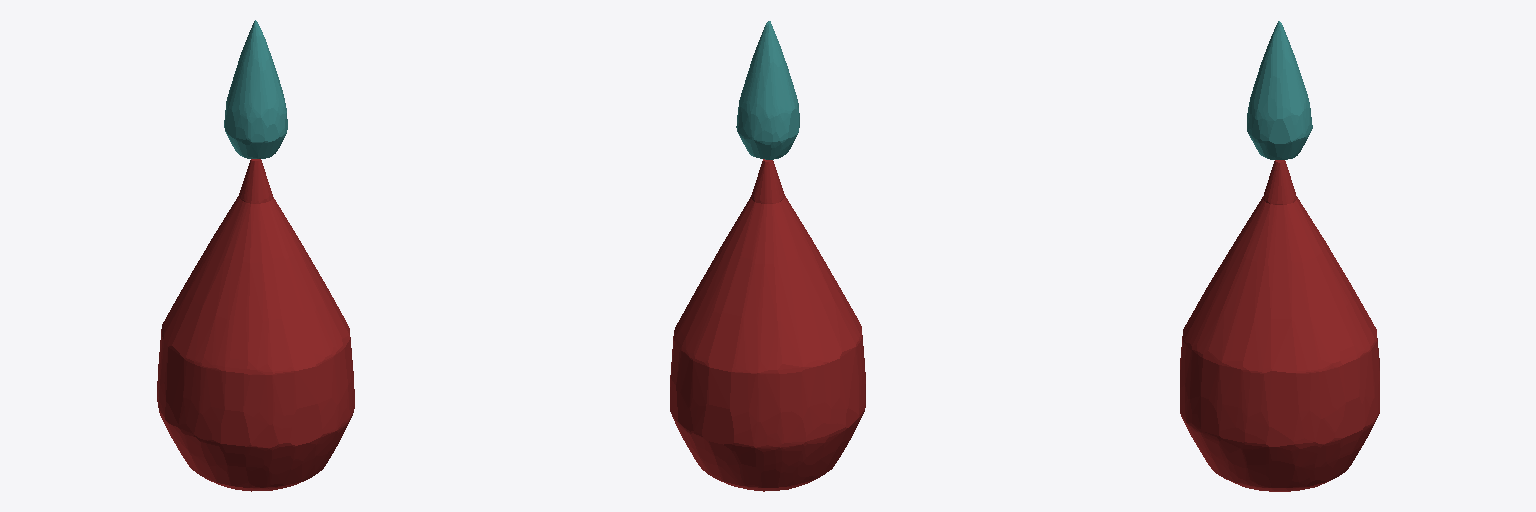
URDF robot description (root):
<robot name="root">
  <link name="bottle_body">
    <inertial>
      <origin xyz="0 0 0" rpy="0 0 0"/>
    </inertial>
    <mass value="1.00E-02"/>
    <visual>
      <origin xyz="0 0 0" rpy="0 0 0"/>
      <geometry>
        <mesh filename="core-bottle-cf6eff1143f9826ab5c14191b5dd293b-coacd_convex_piece_2.obj" scale="1.0000E-01 1.0000E-01 1.0000E-01"/>
      </geometry>
      <material name="">
        <color rgba="6.00E-01 2.00E-01 2.00E-01 1"/>
      </material>
    </visual>
    <collision>
      <origin xyz="0 0 0" rpy="0 0 0"/>
      <geometry>
        <mesh filename="core-bottle-cf6eff1143f9826ab5c14191b5dd293b-coacd_convex_piece_2.obj" scale="1.0000E-01 1.0000E-01 1.0000E-01"/>
      </geometry>
    </collision>
    <visual>
      <origin xyz="0 0 0" rpy="0 0 0"/>
      <geometry>
        <mesh filename="core-bottle-cf6eff1143f9826ab5c14191b5dd293b-coacd_convex_piece_0.obj" scale="1.0000E-01 1.0000E-01 1.0000E-01"/>
      </geometry>
      <material name="">
        <color rgba="6.00E-01 2.00E-01 2.00E-01 1"/>
      </material>
    </visual>
    <collision>
      <origin xyz="0 0 0" rpy="0 0 0"/>
      <geometry>
        <mesh filename="core-bottle-cf6eff1143f9826ab5c14191b5dd293b-coacd_convex_piece_0.obj" scale="1.0000E-01 1.0000E-01 1.0000E-01"/>
      </geometry>
    </collision>
  </link>
  <link name="bottle_cap">
    <origin xyz="0 0 0.002" rpy="0 0 0"/>
    <mass value="1.00E-02"/>
    <visual>
      <origin xyz="0 0 0.002" rpy="0 0 0"/>
      <geometry>
        <mesh filename="core-bottle-cf6eff1143f9826ab5c14191b5dd293b-coacd_convex_piece_1.obj" scale="1.0000E-01 1.0000E-01 1.0000E-01"/>
      </geometry>
      <material name="">
        <color rgba="3.00E-01 6.00E-01 6.00E-01 1"/>
      </material>
    </visual>
    <collision>
      <origin xyz="0 0 0.002" rpy="0 0 0"/>
      <geometry>
        <mesh filename="core-bottle-cf6eff1143f9826ab5c14191b5dd293b-coacd_convex_piece_1.obj" scale="1.0000E-01 1.0000E-01 1.0000E-01"/>
      </geometry>
    </collision>
  </link>
  <joint name="bottle_cap_joint" type="revolute">
    <origin xyz="0 0 0" rpy="0 0 0"/>
    <parent link="bottle_body"/>
    <child link="bottle_cap"/>
    <axis xyz="0 0 1"/>
    <limit lower="0.00" upper="6.28"/>
    <dynamics damping="0.05"/>
  </joint>
</robot>

--- Facts derived from the render (not from the file) ---
3 views of the same robot in one strip: view 1: azimuth 30°, elevation 25°; view 2: azimuth 150°, elevation 25°; view 3: azimuth 270°, elevation 25° (orthographic).
Robot: root — 2 links, 1 joints (1 revolute); root link bottle_body; default pose: all joints at 0.
Links seen in each view (by area): view 1: bottle_body, bottle_cap; view 2: bottle_body, bottle_cap; view 3: bottle_body, bottle_cap.
Link boxes in pixels (x1,y1,x2,y2): bottle_body: (157, 159, 354, 491); bottle_cap: (224, 20, 287, 158); bottle_body: (670, 159, 865, 491); bottle_cap: (736, 21, 799, 159); bottle_body: (1180, 160, 1379, 491); bottle_cap: (1247, 21, 1312, 159).
Size in the robot's own frame: 0.0762 by 0.0783 by 0.1965 metres.
3 mesh visuals loaded from 3 distinct referenced files (3 OBJ).